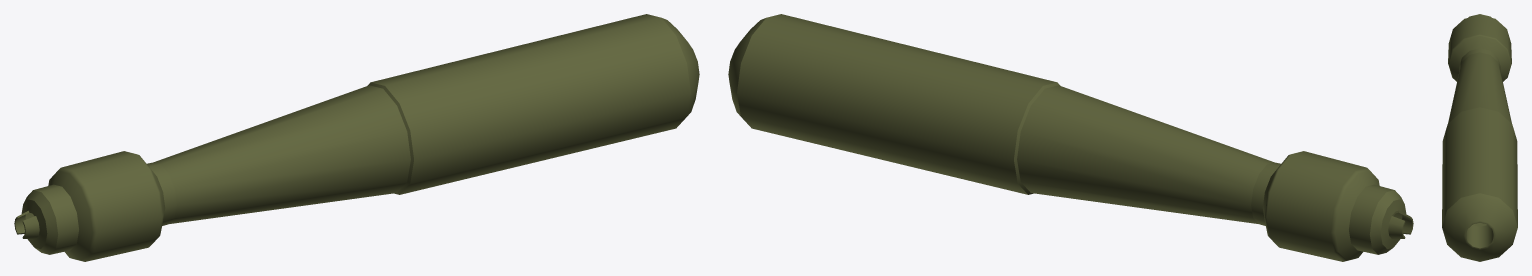
Rendered from Tools_JacobChuckHandle_01.fbx.
3 renders of one model, left to right at view 1: azimuth 30°, elevation 25°; view 2: azimuth 150°, elevation 25°; view 3: azimuth 270°, elevation 25°, orthographic. The views are drawn at different scales.
Parts seen in each view (by area): view 1: Tools_JacobChuckHandle_01:pCylinder1; view 2: Tools_JacobChuckHandle_01:pCylinder1; view 3: Tools_JacobChuckHandle_01:pCylinder1.
Part boxes in pixels (x1,y1,x2,y2): Tools_JacobChuckHandle_01:pCylinder1: (14,14,699,261); Tools_JacobChuckHandle_01:pCylinder1: (728,14,1413,261); Tools_JacobChuckHandle_01:pCylinder1: (1442,14,1517,261).
Size of the model in its own units: 15.13 by 2.33 by 2.33.
